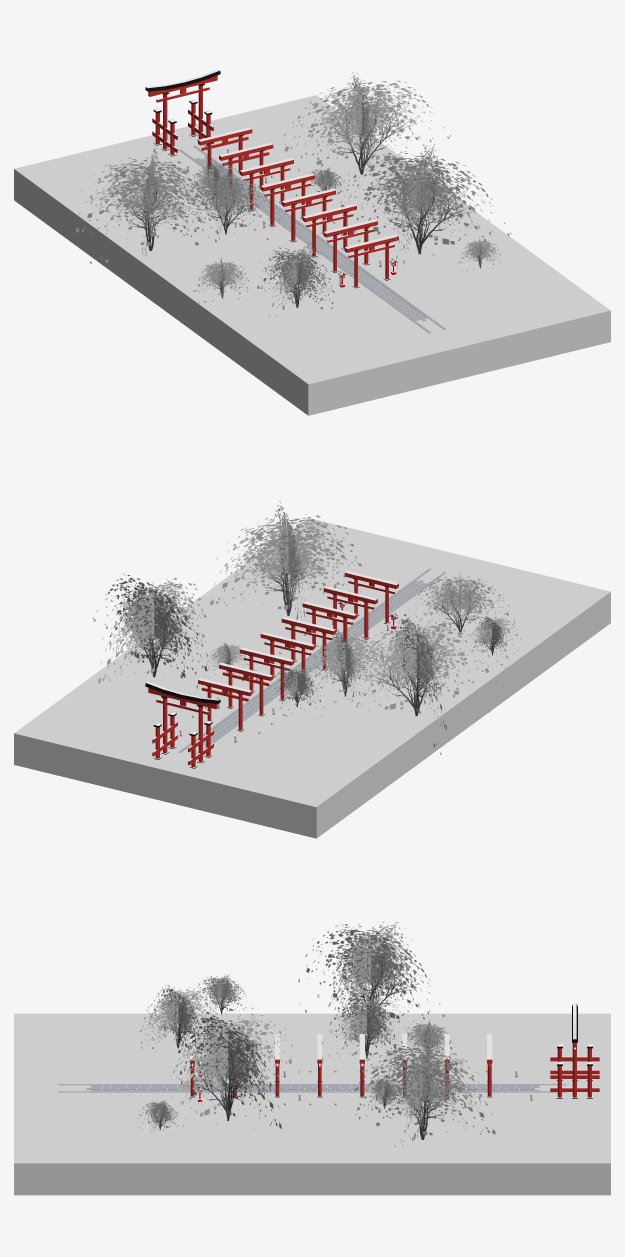
File: 冬神社1.1.glb
3 views of the same model, one above another, from view 1: azimuth 30°, elevation 25°; view 2: azimuth 150°, elevation 25°; view 3: azimuth 270°, elevation 25° (orthographic).
Parts seen in each view (by area): view 1: 円柱.001; view 2: 円柱.001; view 3: 円柱.001.
Part boxes in pixels (x1,y1,x2,y2): 円柱.001: [14, 69, 610, 415]; 円柱.001: [14, 501, 610, 838]; 円柱.001: [14, 921, 610, 1195].
Size of the model in its own units: 60.63 by 28.53 by 79.62.
12 materials, 2 textured.
